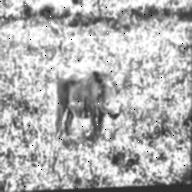boar: (54, 51, 132, 130)
